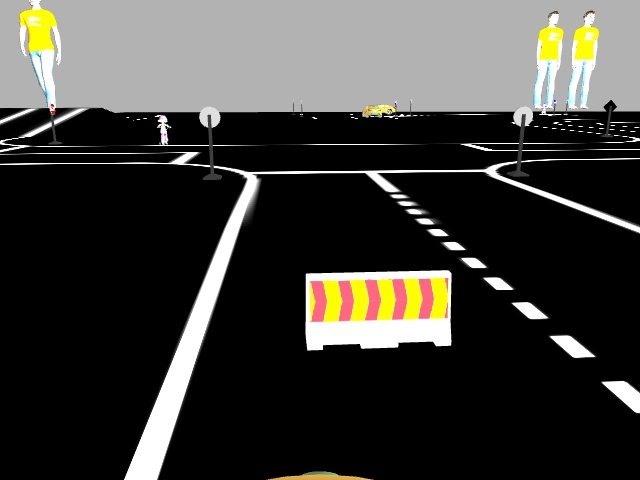ClosedRoadStand: (306, 273, 451, 343)
